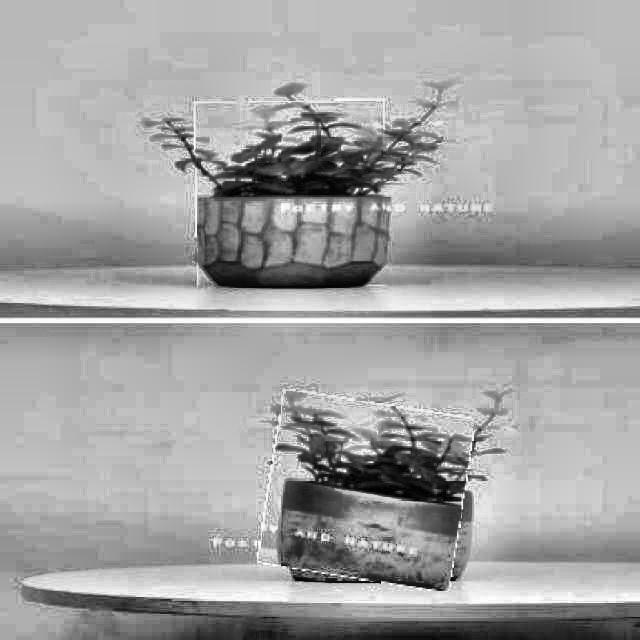plants: (263, 397, 469, 586), (194, 99, 386, 287)
